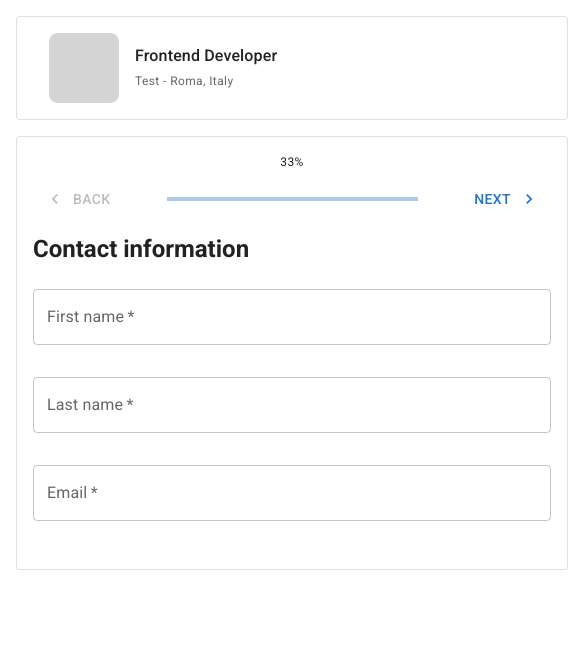
JobApplicationWizard (integration) › should display error messages in step 1
The image size is (585, 656).
Click the button "Next" at (505, 199), box 466,181 -> 543,217
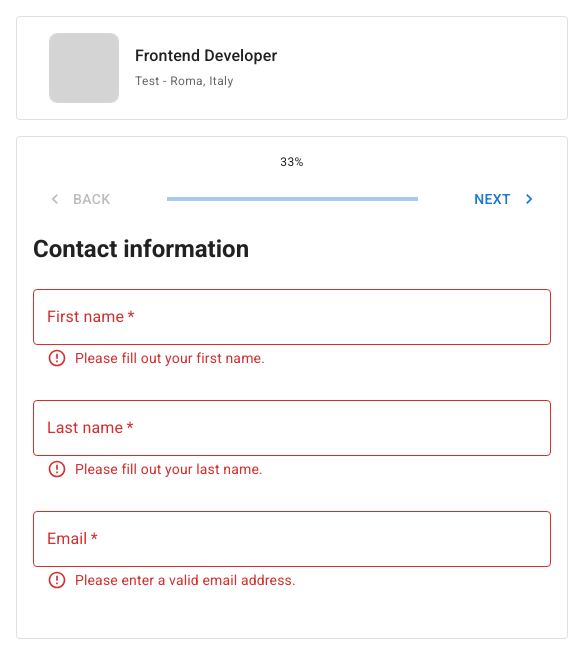
Expected: the message "Please fill out your first name." is shown, 47,348 -> 265,368
Expected: the message "Please fill out your last name." is shown, 47,459 -> 263,479
Expected: the message "Please enter a valid email address." is shown, 47,570 -> 296,590
